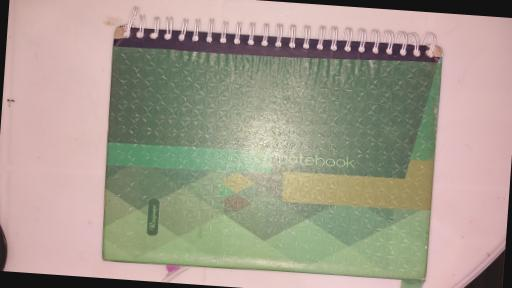notebook: (100, 8, 445, 284)
